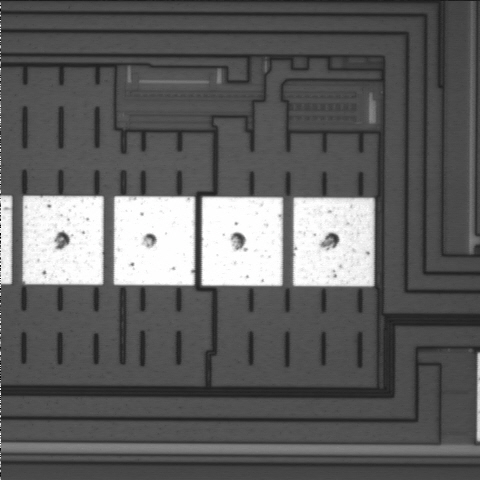pad: (23, 196, 104, 285), (114, 196, 195, 285), (202, 197, 283, 286), (293, 198, 374, 286)
